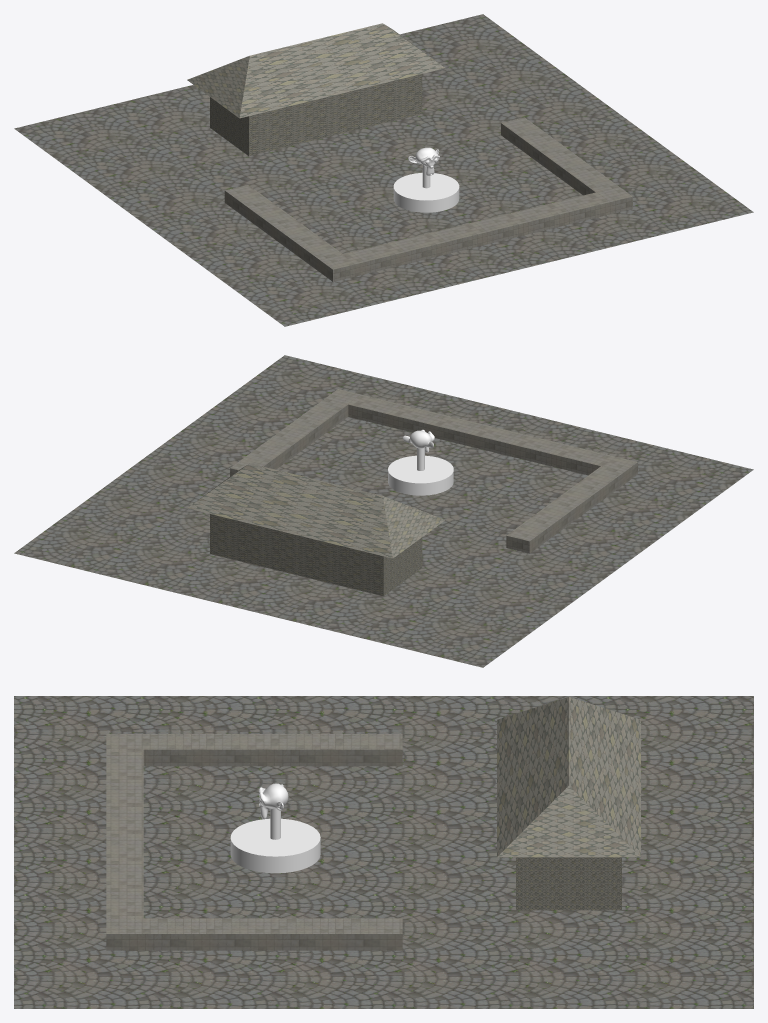
Rendered from sample_level.gltf.
3 views of the same model, one above another, from view 1: azimuth 30°, elevation 25°; view 2: azimuth 150°, elevation 25°; view 3: azimuth 270°, elevation 25° (orthographic). The views are drawn at different scales.
Visible parts, largest first — view 1: Plane, Cube.001, Plane.001, Cube, Cylinder; view 2: Plane, Cube.001, Plane.001, Cube, Cylinder; view 3: Plane, Cube.001, Plane.001, Cube, Cylinder, monkey.
Boxes of the visible parts, box(x1,y1,x2,y2) form: Plane: box(14, 14, 753, 326); Cube.001: box(224, 117, 632, 281); Plane.001: box(187, 23, 445, 118); Cube: box(210, 74, 422, 155); Cylinder: box(393, 165, 459, 212); Plane: box(14, 355, 753, 667); Cube.001: box(230, 389, 637, 553); Plane.001: box(187, 463, 445, 558); Cube: box(210, 514, 422, 596); Cylinder: box(388, 447, 453, 495); Plane: box(14, 696, 753, 1008); Cube.001: box(106, 734, 402, 950); Plane.001: box(497, 697, 640, 857); Cube: box(516, 857, 621, 910); Cylinder: box(230, 808, 320, 873); monkey: box(259, 783, 288, 819).
Size of the model in its own units: 40 by 7.64 by 40.
Materials: 4 (3 with a texture image).
